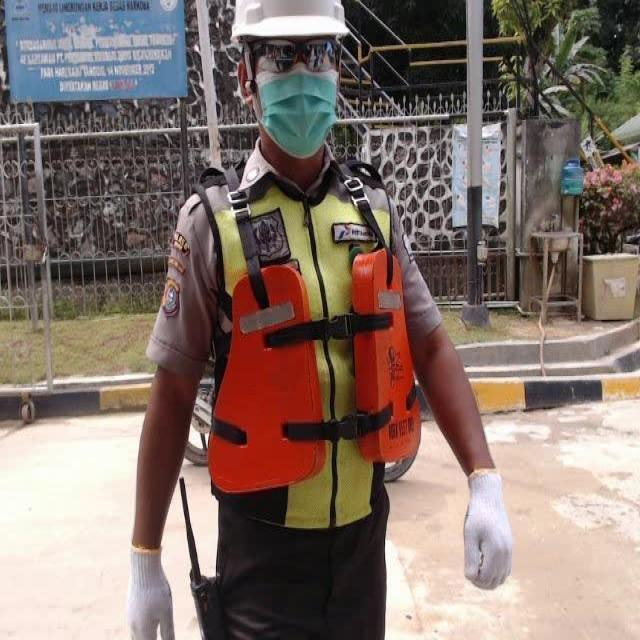Vest: (200, 242, 429, 478)
